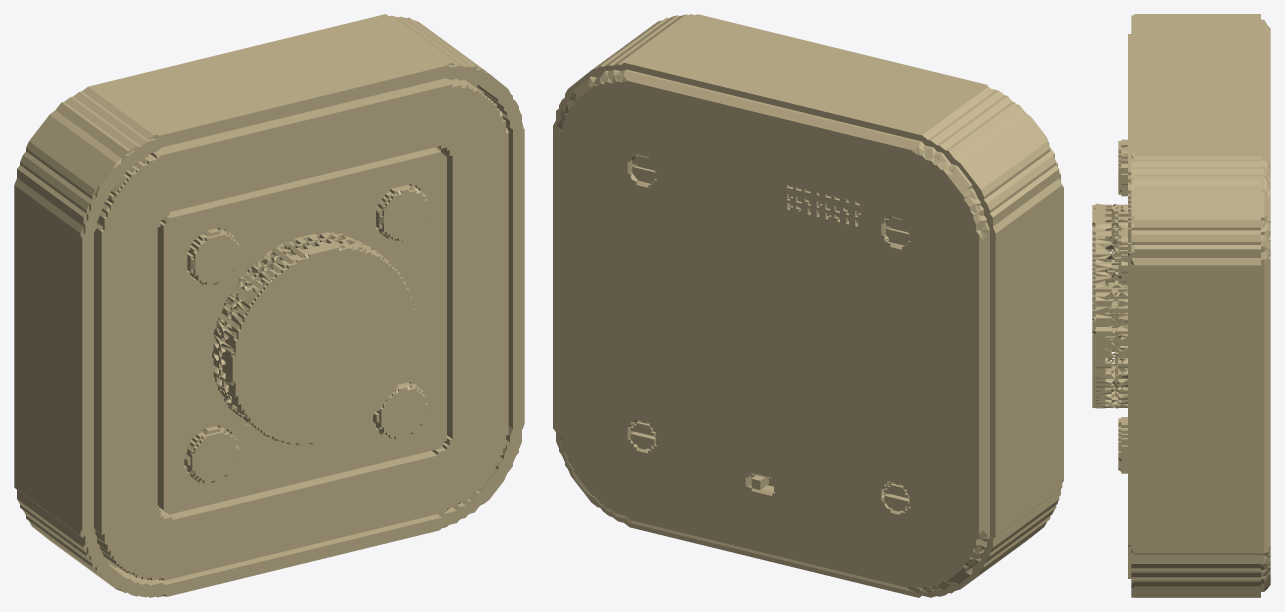
File: obedio-button.glb
3 views of the same model, side by side, from view 1: azimuth 30°, elevation 25°; view 2: azimuth 150°, elevation 25°; view 3: azimuth 270°, elevation 25° (orthographic). The views are drawn at different scales.
Parts seen in each view (by area): view 1: world; view 2: world; view 3: world.
Part boxes in pixels (left/top/right/bottom): world: left=14, top=14, right=524, bottom=597; world: left=553, top=14, right=1063, bottom=597; world: left=1092, top=14, right=1270, bottom=597.
Size of the model in its own units: 1 by 1 by 0.3667.
